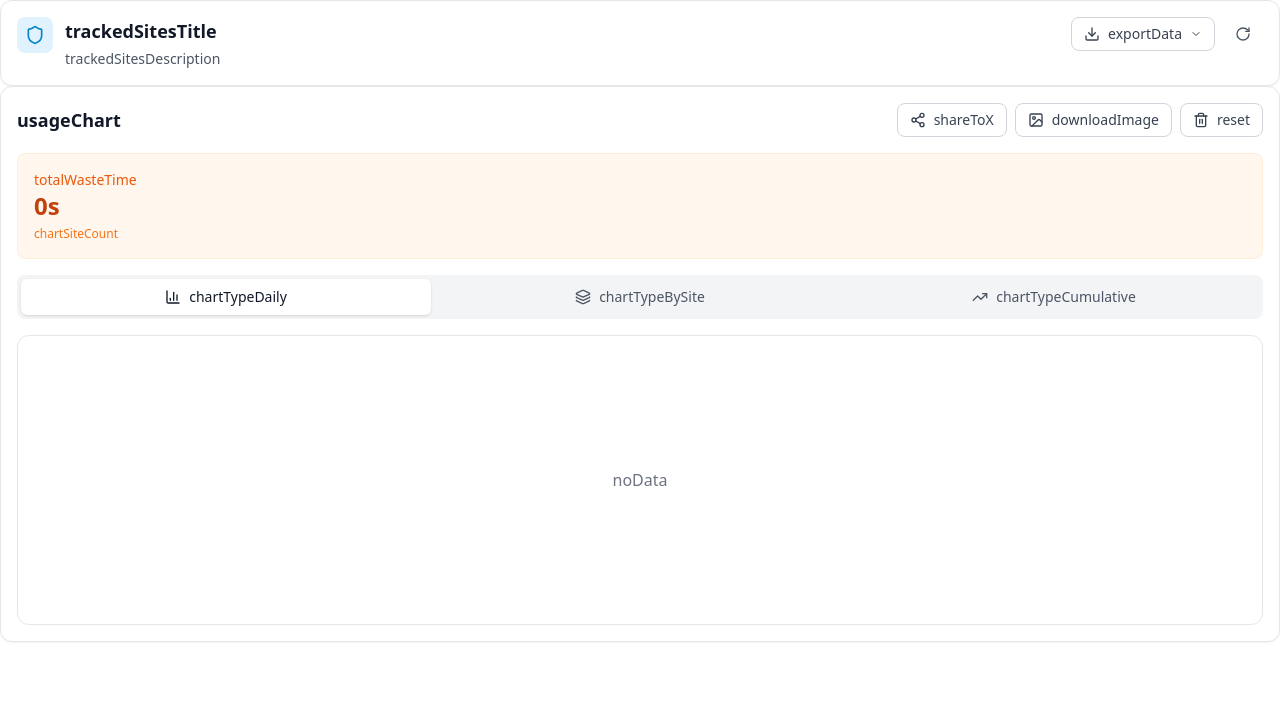
Test: AnalyticsExportBar › 書き出しメニュー › 書き出すとメニューは閉じる
Click the button with test id "analytics-export-button".
click(1143, 34)  # box [1071,17,1215,51]
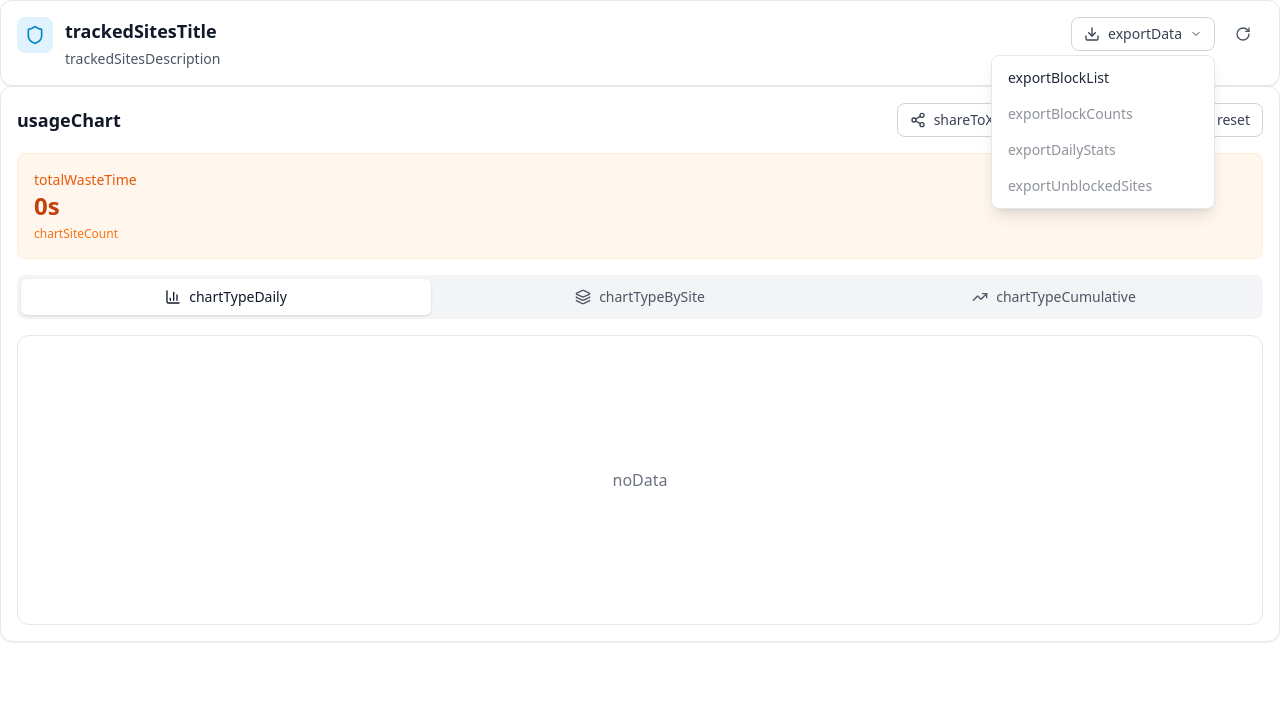
Click the button with test id "analytics-export-blocklist".
click(1103, 78)  # box [992,60,1214,96]
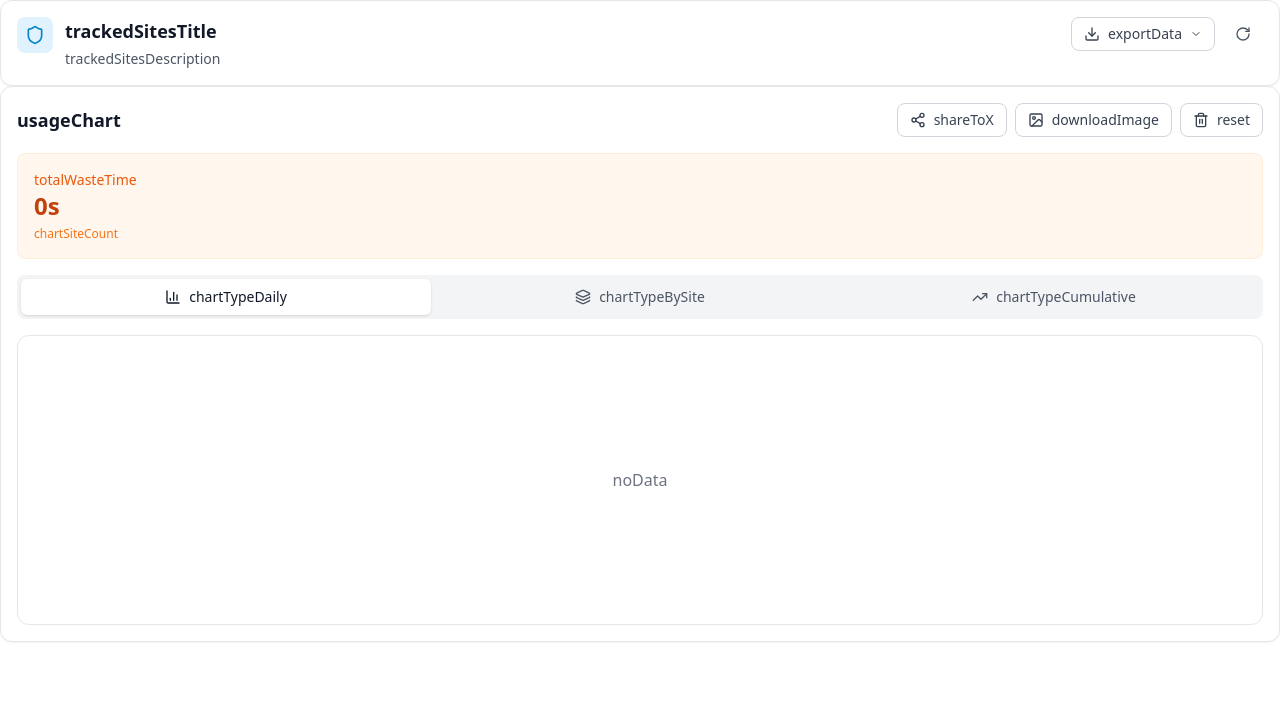
Result: the button with test id "analytics-export-blocklist" is gone
